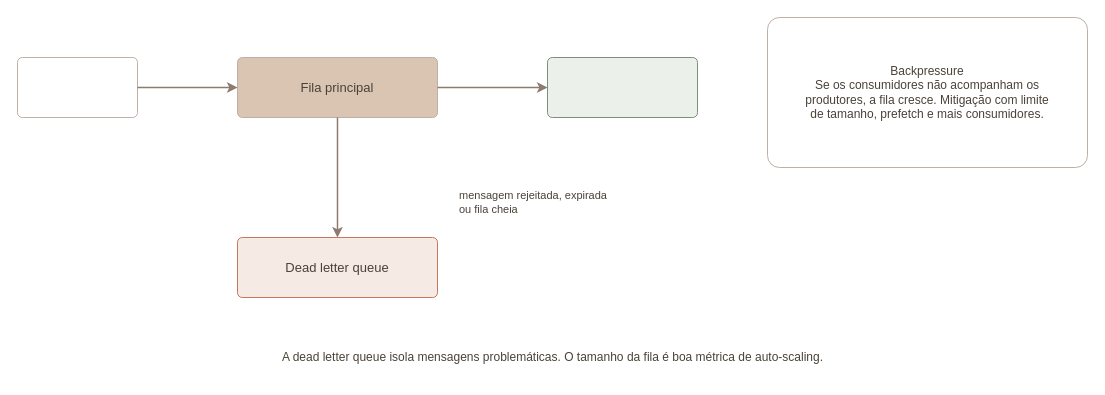
The diagram is 1105 pixels wide and 395 high, and some of its shapes have lost their labels. The box of each missing label's shape, as (x1, y1, x2, y2) in pixels:
Consumidor: (546, 56, 698, 118)
Produtor: (16, 56, 138, 118)
